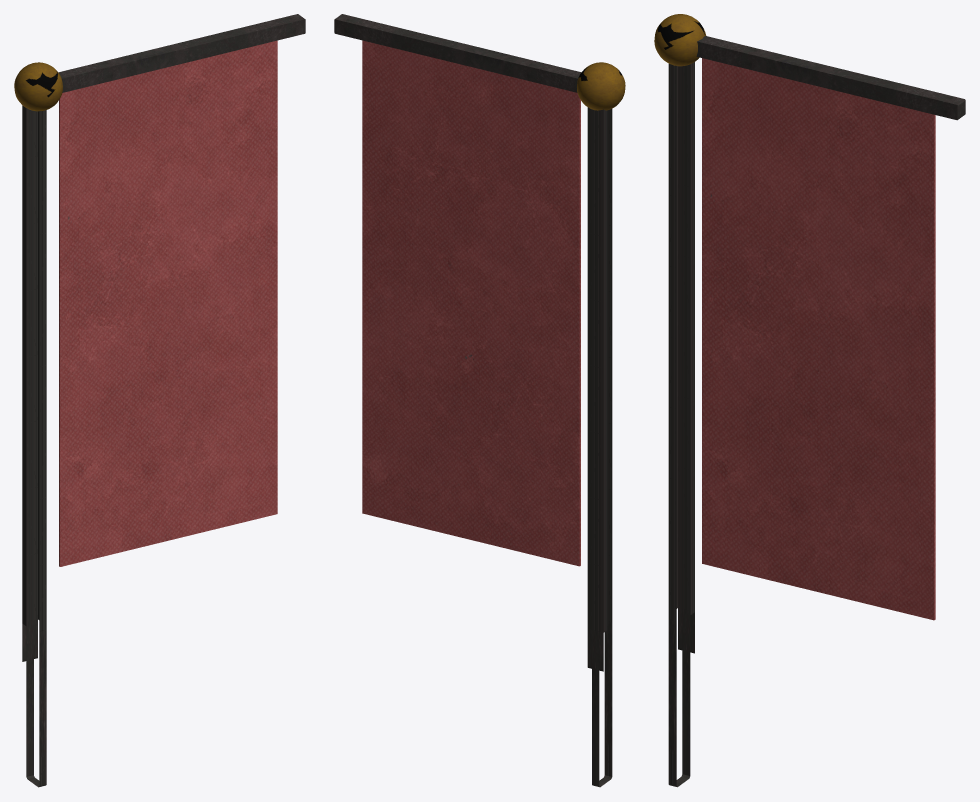
File: Banner.fbx
The picture shows the model from 3 angles, left to right: view 1: azimuth 30°, elevation 25°; view 2: azimuth 150°, elevation 25°; view 3: azimuth 330°, elevation 25°; orthographic projection. The views are drawn at different scales.
Visible parts, largest first — view 1: polySurface1.001, polySurface4.001, polySurface2.001, polySurface3; view 2: polySurface1.001, polySurface4.001, polySurface2.001, polySurface3; view 3: polySurface1.001, polySurface4.001, polySurface2.001, polySurface3.
Part boxes in pixels (x1=…): polySurface1.001: x1=59, y1=40, x2=277, y2=566; polySurface4.001: x1=22, y1=105, x2=46, y2=787; polySurface2.001: x1=58, y1=14, x2=305, y2=92; polySurface3: x1=14, y1=62, x2=62, y2=111; polySurface1.001: x1=362, y1=40, x2=580, y2=566; polySurface4.001: x1=587, y1=107, x2=612, y2=787; polySurface2.001: x1=334, y1=14, x2=581, y2=92; polySurface3: x1=577, y1=62, x2=625, y2=110; polySurface1.001: x1=702, y1=58, x2=935, y2=620; polySurface4.001: x1=668, y1=62, x2=694, y2=787; polySurface2.001: x1=696, y1=35, x2=965, y2=120; polySurface3: x1=654, y1=14, x2=706, y2=66.
Size of the model in its own units: 1.56 by 3.75 by 0.2322.
